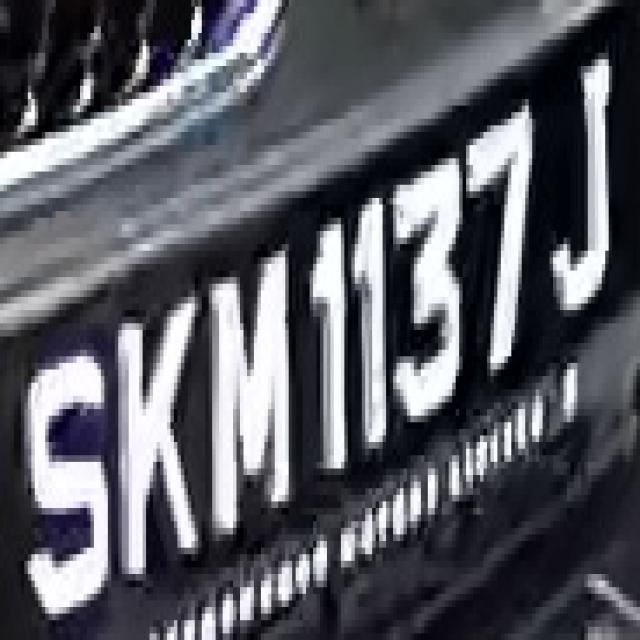1: (299, 211, 355, 502), (341, 152, 389, 468)
3: (376, 138, 476, 436)
7: (456, 119, 542, 376)
J: (546, 59, 623, 317)
K: (107, 297, 215, 587)
M: (198, 238, 313, 548)
S: (17, 350, 122, 614)
